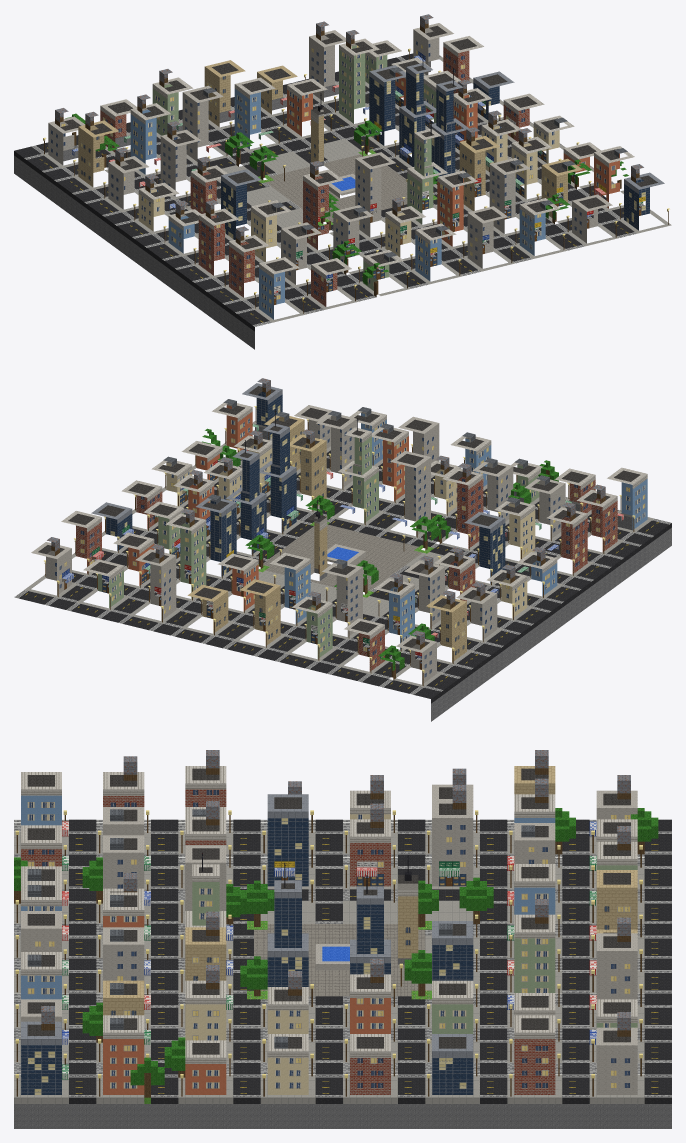
Rendered from room.glb.
3 views of the same model, one above another, from view 1: azimuth 30°, elevation 25°; view 2: azimuth 150°, elevation 25°; view 3: azimuth 270°, elevation 25° (orthographic). The views are drawn at different scales.
Visible parts, largest first — view 1: land; view 2: land; view 3: land.
Part boxes in pixels (left/top/right/bottom): land: left=14, top=14, right=671, bottom=349; land: left=14, top=378, right=671, bottom=721; land: left=14, top=750, right=671, bottom=1128.
Size of the model in its own units: 96 by 30 by 96.
Materials: 1 (1 with a texture image).
